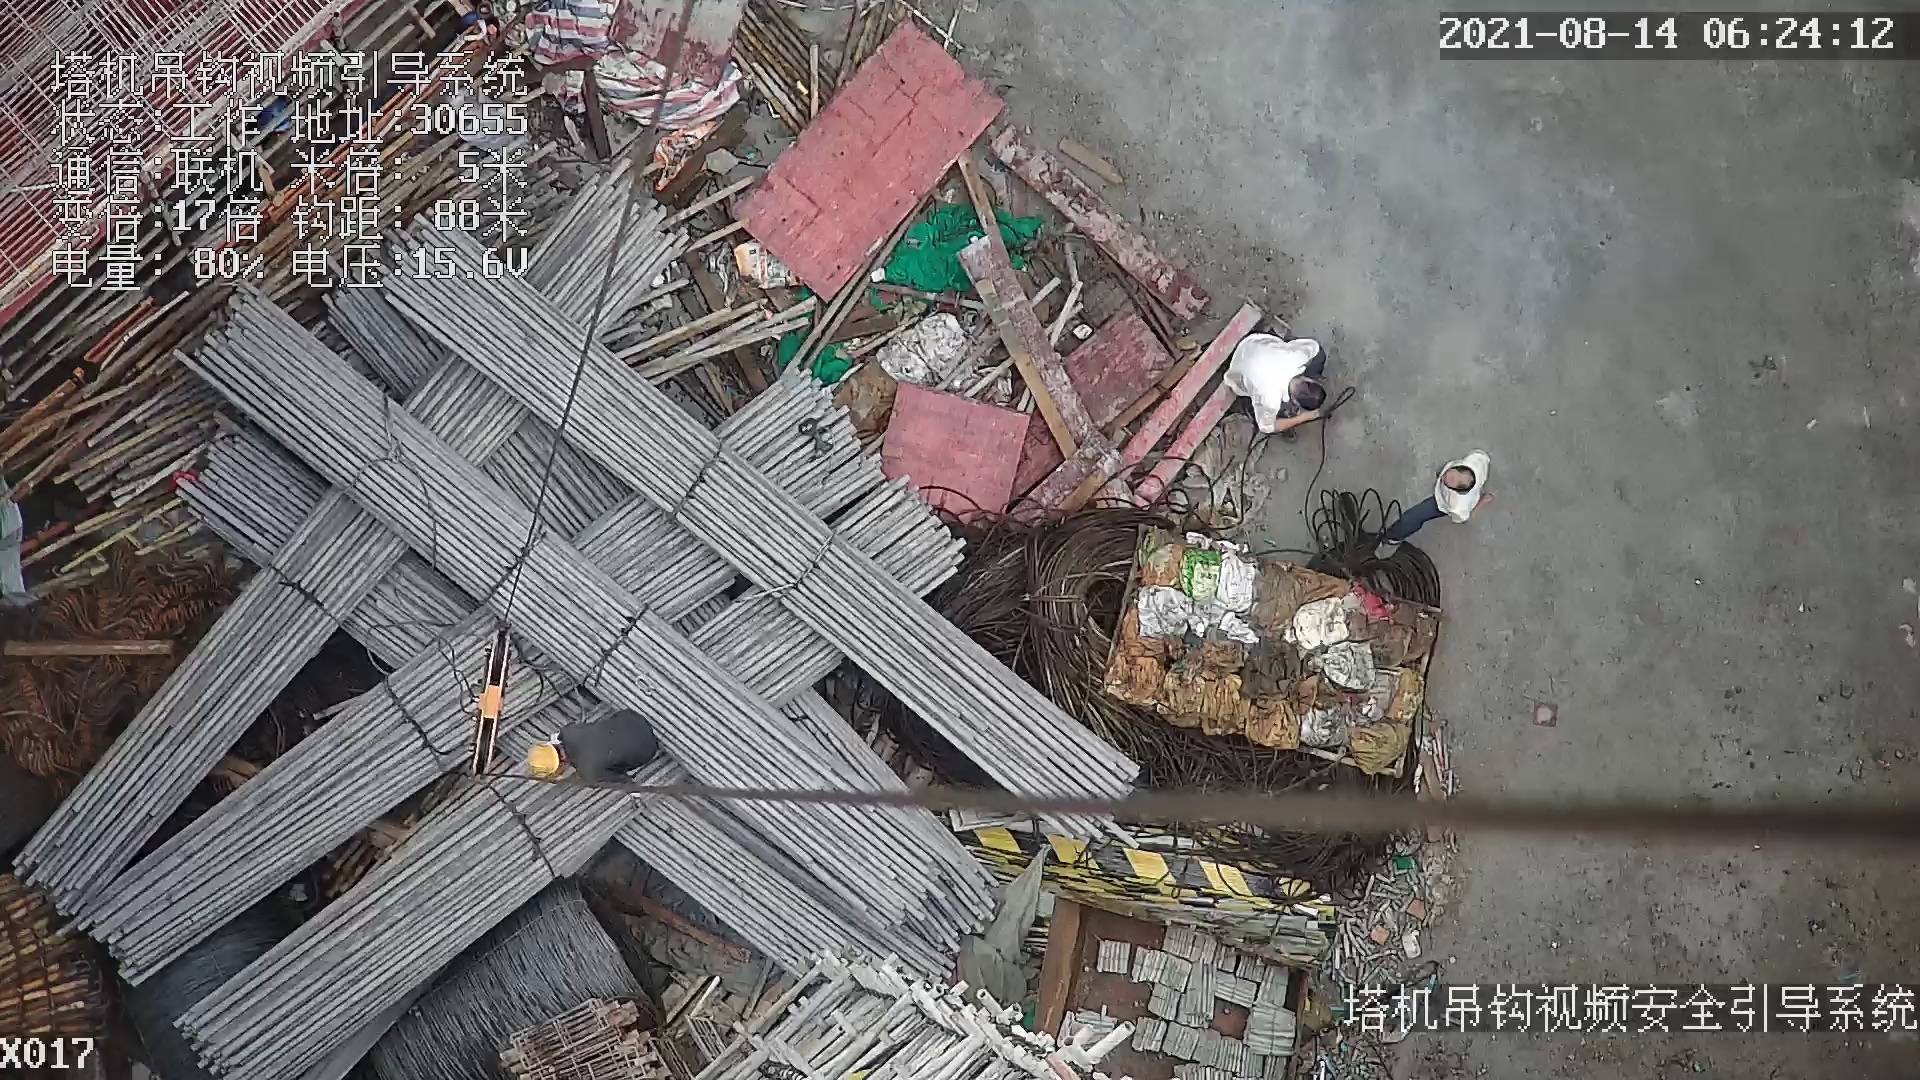helmet: (528, 743, 559, 774)
hook: (473, 630, 509, 778)
person: (1379, 439, 1499, 563), (1218, 314, 1326, 432), (523, 719, 651, 810)
rebar: (178, 284, 959, 919), (385, 279, 1143, 847), (71, 603, 586, 983), (12, 493, 406, 920), (169, 781, 636, 1080)
scaffold: (1, 872, 112, 1034)
